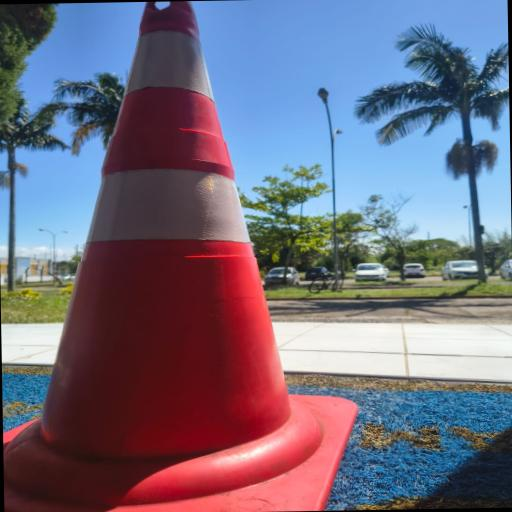cone: (27, 0, 297, 438)
